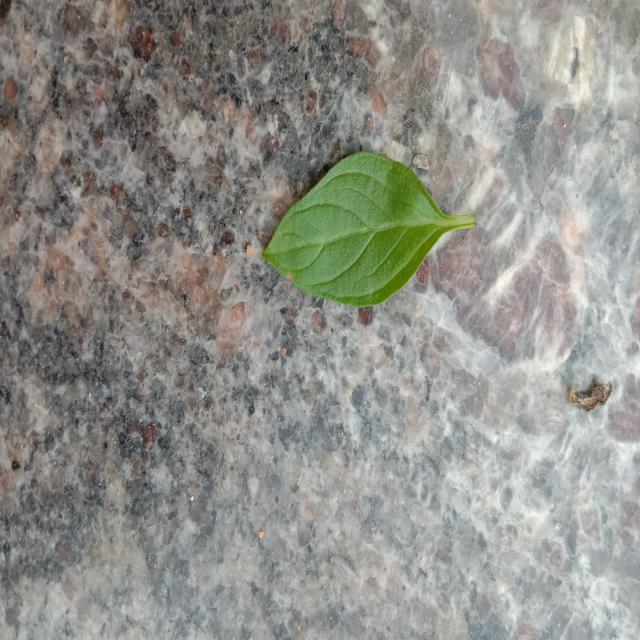kamakasturi: (264, 153, 476, 307)
